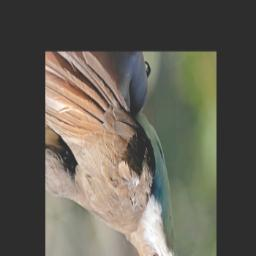Cuckoo: (45, 51, 189, 256)
